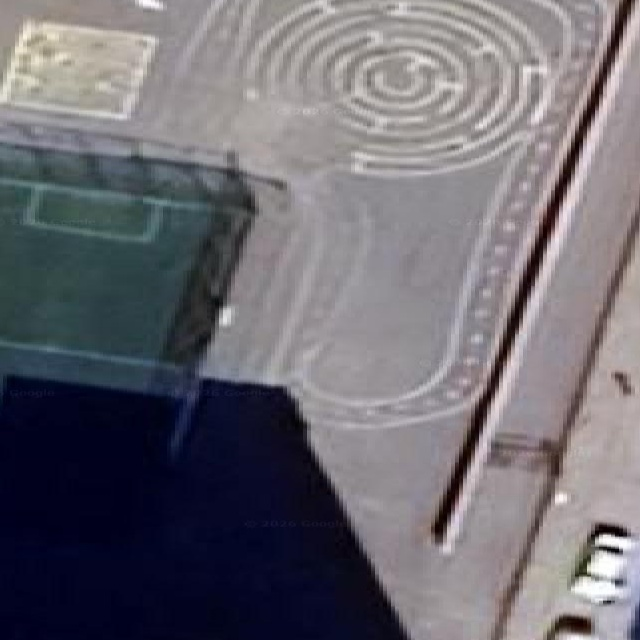car: (569, 524, 636, 604), (544, 615, 597, 639)
